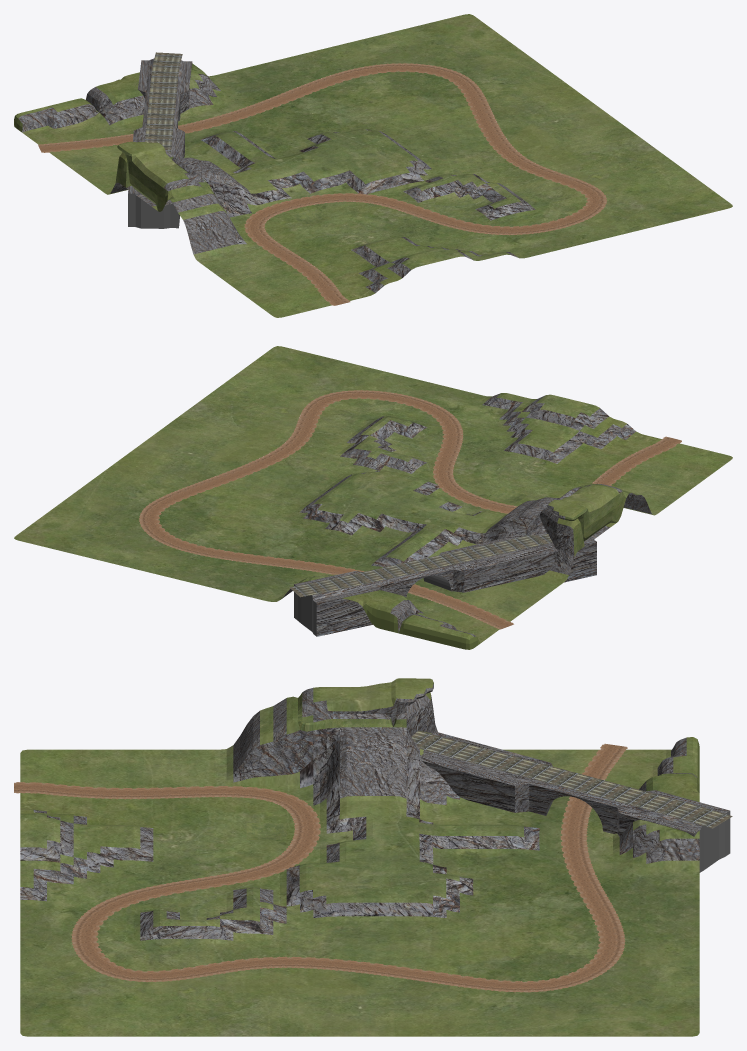
File: map_4.fbx
3 renders of one model, top to bottom at view 1: azimuth 30°, elevation 25°; view 2: azimuth 150°, elevation 25°; view 3: azimuth 270°, elevation 25°, orthographic. The views are drawn at different scales.
Parts seen in each view (by area): view 1: Plane, Plane.001, main_train_road_cube, train_road_plane; view 2: Plane, Plane.001, main_train_road_cube, train_road_plane; view 3: Plane, Plane.001, main_train_road_cube, train_road_plane.
Part boxes in pixels (x1,y1,x2,y2): Plane: [14, 14, 732, 317]; Plane.001: [38, 63, 606, 305]; main_train_road_cube: [128, 58, 192, 228]; train_road_plane: [145, 52, 182, 153]; Plane: [14, 346, 732, 649]; Plane.001: [139, 390, 681, 629]; main_train_road_cube: [294, 535, 596, 636]; train_road_plane: [289, 534, 552, 597]; Plane: [20, 678, 699, 1036]; Plane.001: [14, 743, 627, 992]; main_train_road_cube: [421, 731, 730, 872]; train_road_plane: [411, 730, 732, 828].
Bounding box in the file's own units: 20396 × 2899 × 21165.
5 materials, 4 textured.
